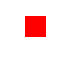square: (25, 16, 45, 36)
